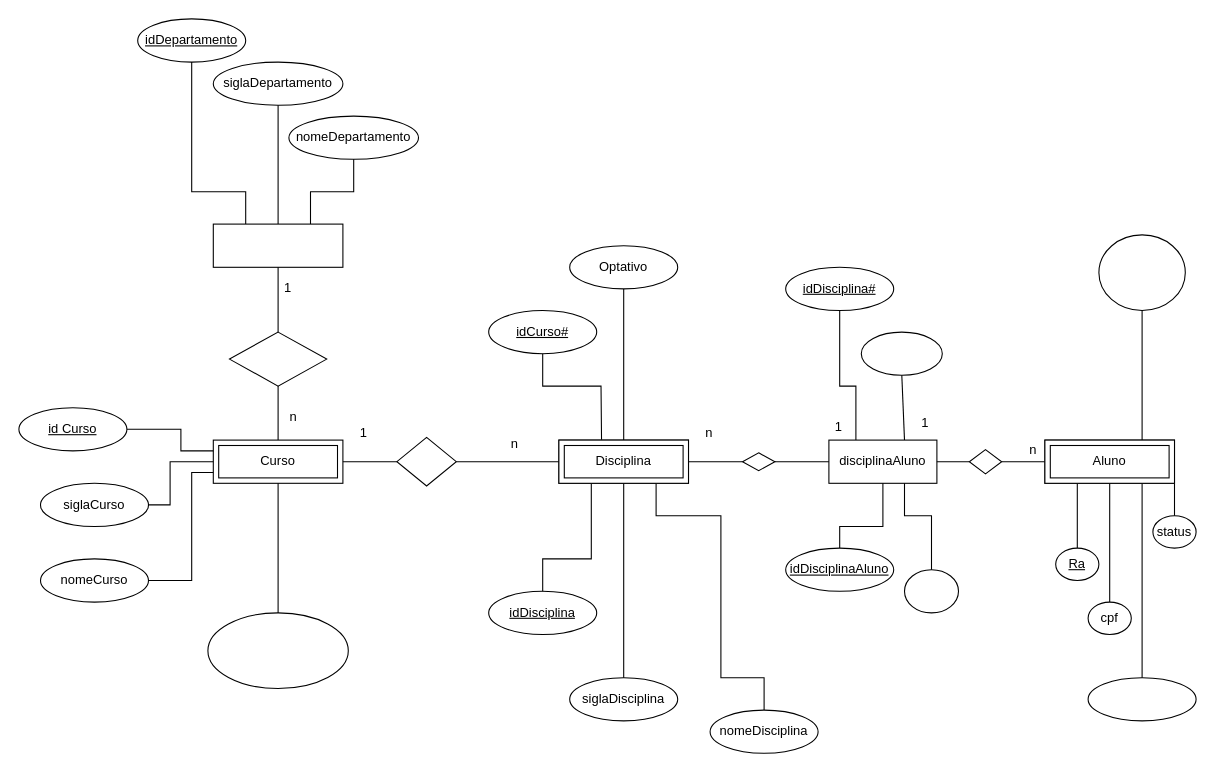
This 1215x772 diagram has some shape labels left out. The centre of each missing label's shape, as x and y in pixels:
"data" belongs at point 931,591.
"Data Nascimento" belongs at point 1141,272.
"Departamento" belongs at point 277,245.
"idAluno#" belongs at point 901,353.
"idDepartamento#" belongs at point 277,650.
"nomeAluno" belongs at point 1141,699.
